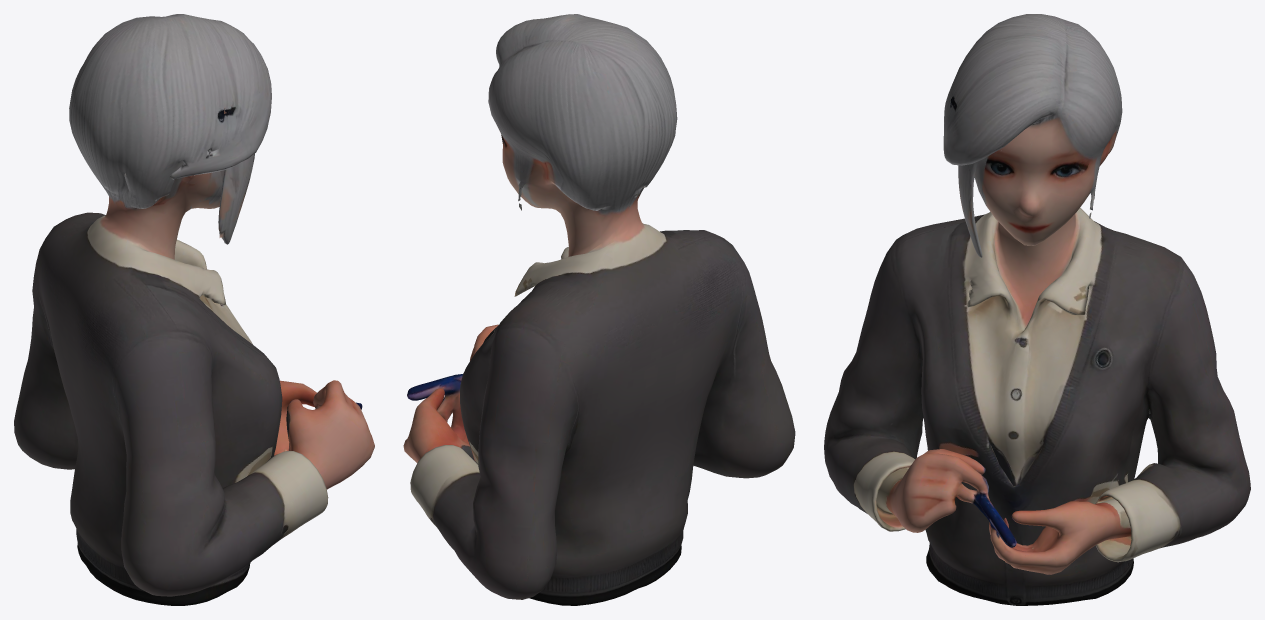
File: suspect_1.glb
The picture shows the model from 3 angles, left to right: view 1: azimuth 30°, elevation 25°; view 2: azimuth 150°, elevation 25°; view 3: azimuth 270°, elevation 25°; orthographic projection.
Visible parts, largest first — view 1: tripo_node_ff68095c-e3c6-4621-bd49-82590b1bc59a; view 2: tripo_node_ff68095c-e3c6-4621-bd49-82590b1bc59a; view 3: tripo_node_ff68095c-e3c6-4621-bd49-82590b1bc59a.
Part boxes in pixels (left/top/right/bottom): tripo_node_ff68095c-e3c6-4621-bd49-82590b1bc59a: left=14, top=14, right=374, bottom=605; tripo_node_ff68095c-e3c6-4621-bd49-82590b1bc59a: left=403, top=14, right=795, bottom=605; tripo_node_ff68095c-e3c6-4621-bd49-82590b1bc59a: left=824, top=14, right=1250, bottom=605.
Bounding box in the file's own units: 0.5929 × 0.9969 × 0.7054.
Materials: 1 (1 with a texture image).
